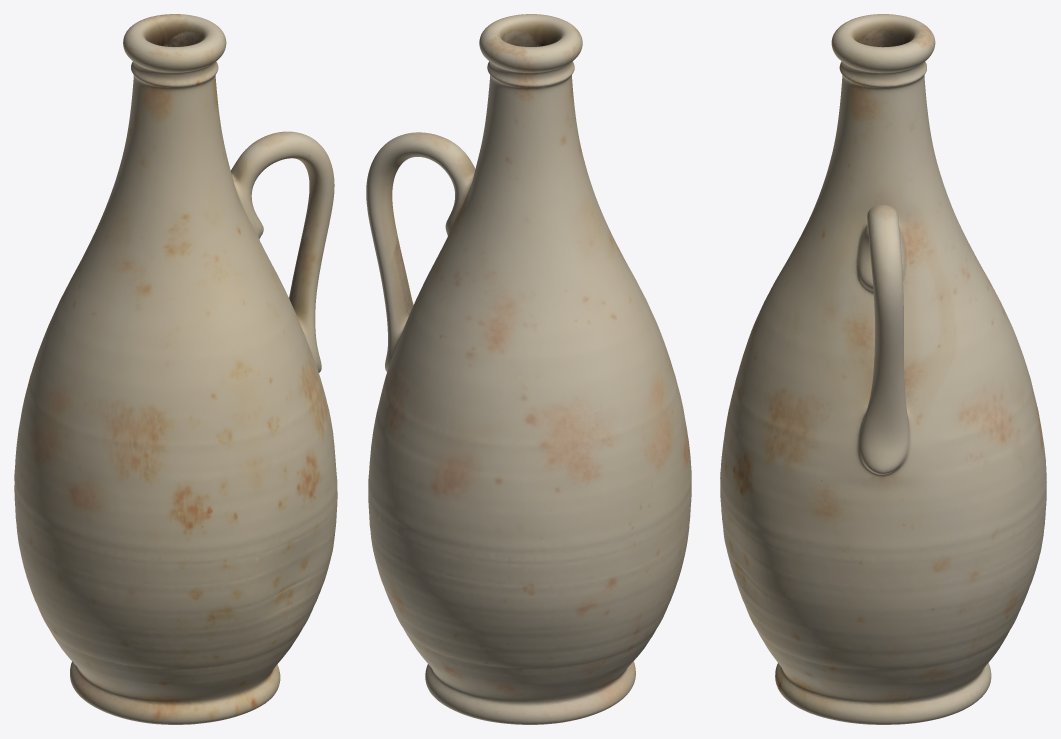
File: jug.glb
3 renders of one model, left to right at view 1: azimuth 30°, elevation 25°; view 2: azimuth 150°, elevation 25°; view 3: azimuth 270°, elevation 25°, orthographic.
Bounding box in the file's own units: 0.9057 × 1.9 × 0.8593.
1 material, 1 textured.
